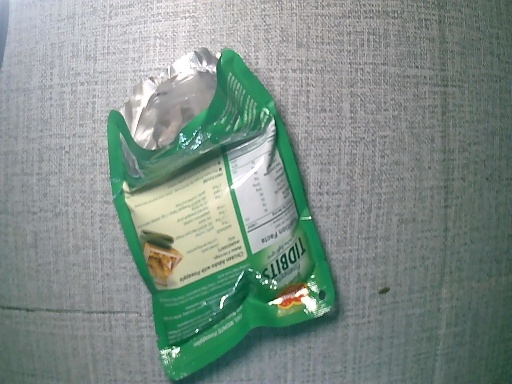plastic: (107, 45, 335, 384)
